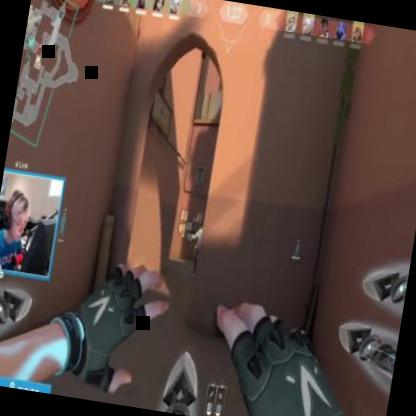enemy: (186, 221, 209, 276)
enemy_head: (198, 221, 204, 230)
